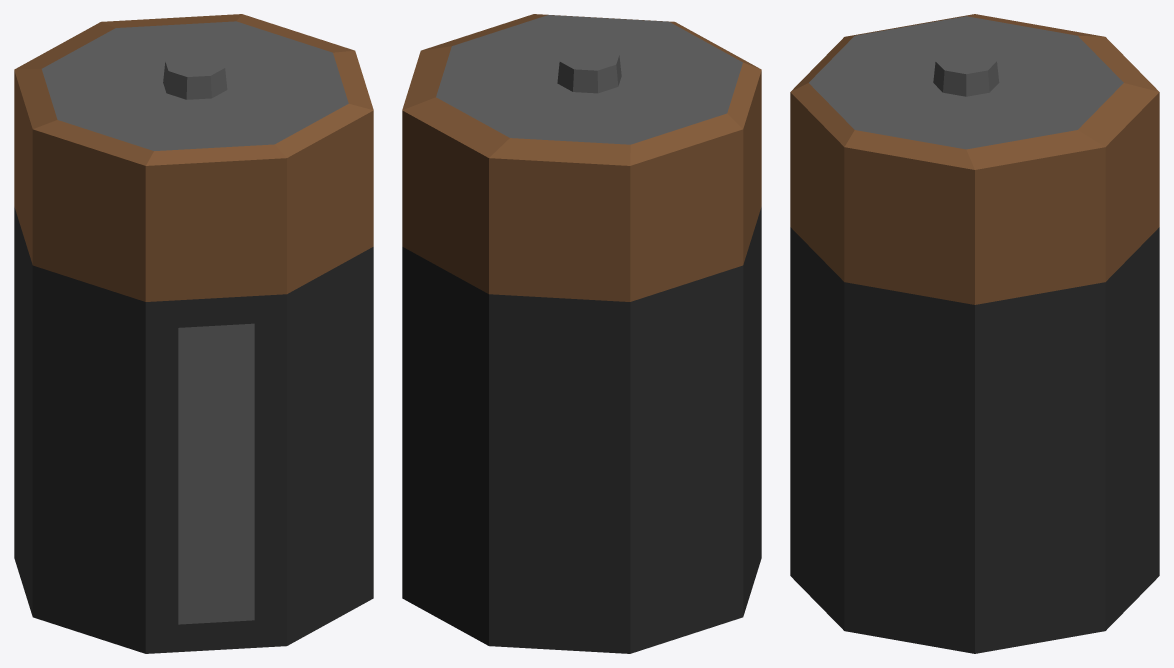
Rendered from battery-big-fbdc87c47e.glb.
The picture shows the model from 3 angles, left to right: view 1: azimuth 30°, elevation 25°; view 2: azimuth 150°, elevation 25°; view 3: azimuth 270°, elevation 25°; orthographic projection.
Visible parts, largest first — view 1: Battery_Big.obj; view 2: Battery_Big.obj; view 3: Battery_Big.obj.
Part boxes in pixels (x1,y1,x2,y2): Battery_Big.obj: (14,14,373,653); Battery_Big.obj: (402,14,761,653); Battery_Big.obj: (790,14,1159,653).
Bounding box in the file's own units: 0.3001 × 0.4602 × 0.3001.
